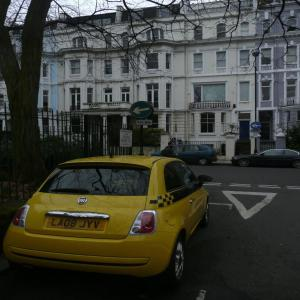Vehicle-registration-plate: (47, 216, 106, 232)
